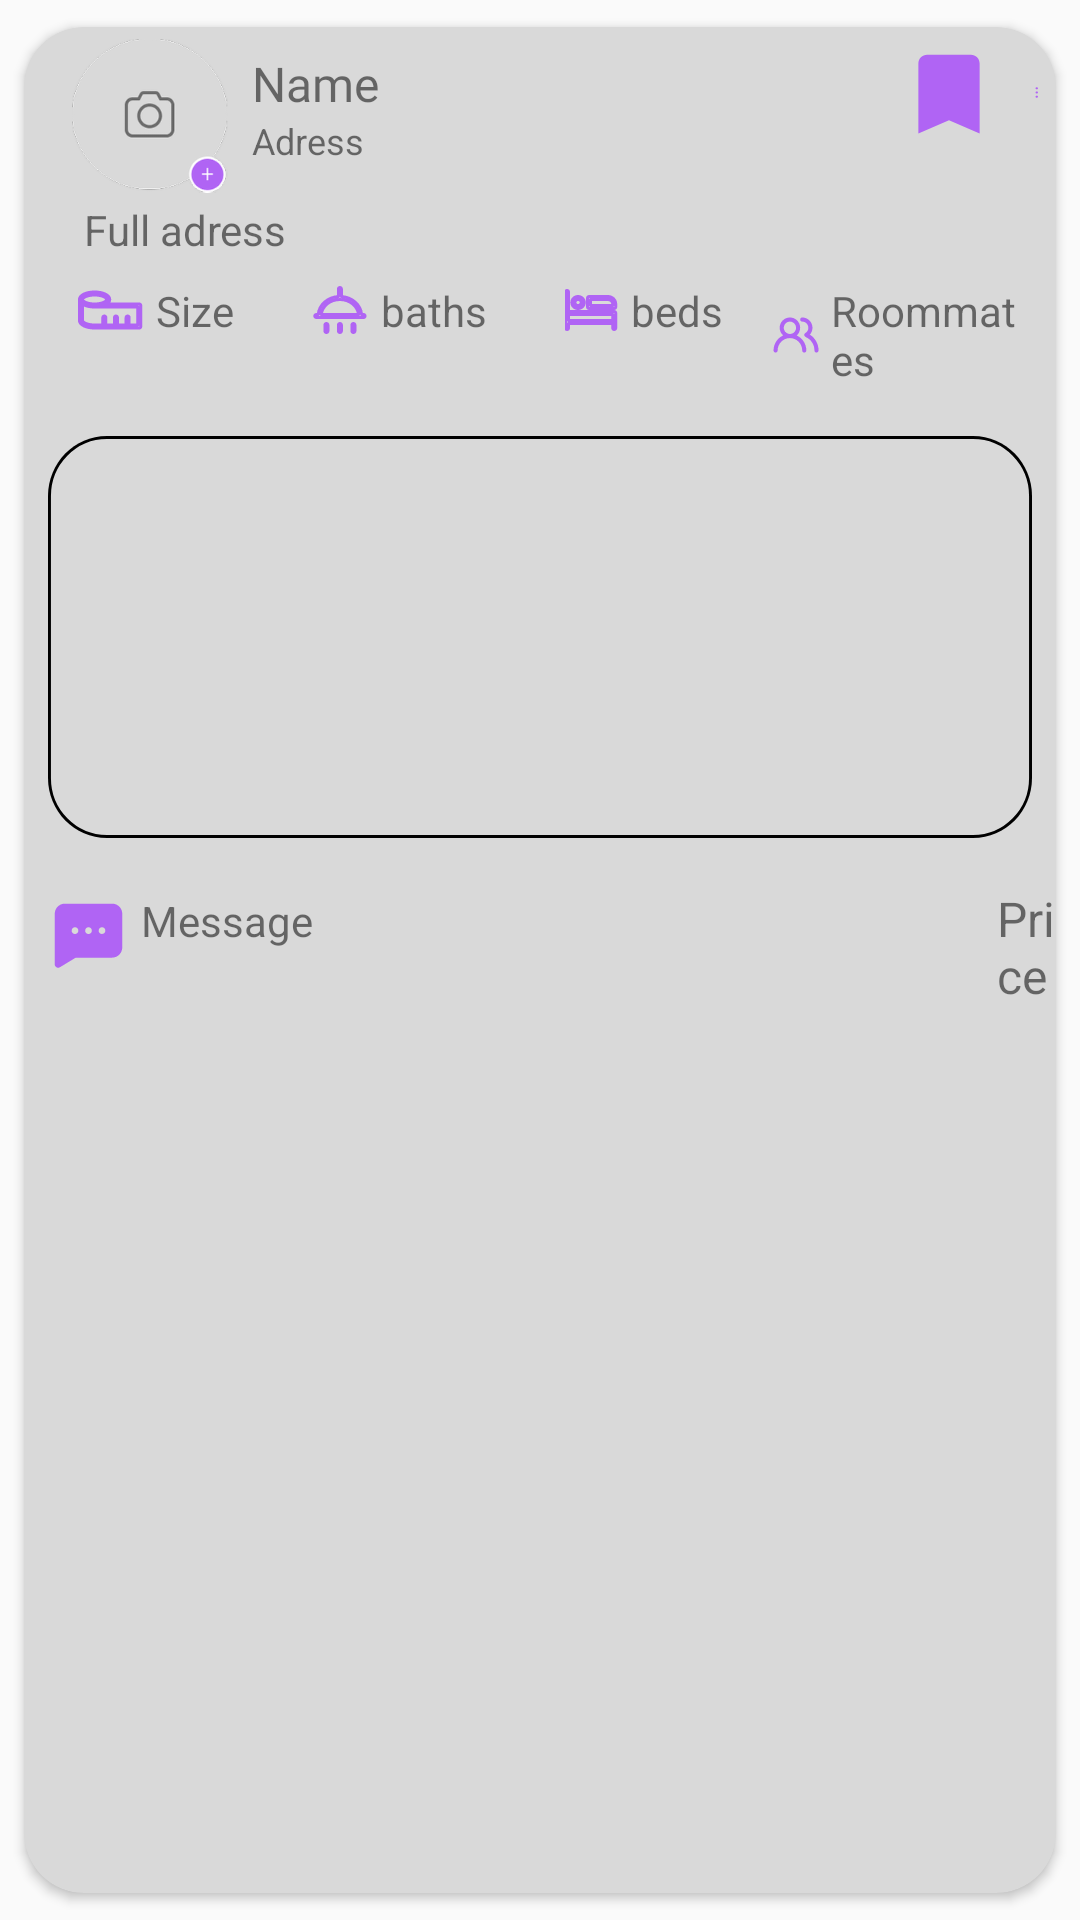

Where icons sit on this 1080w x 1920h app screen, as box=[x1, y1, x2, y2]:
add photo: box=[72, 39, 226, 193]
fav: box=[918, 54, 980, 134]
